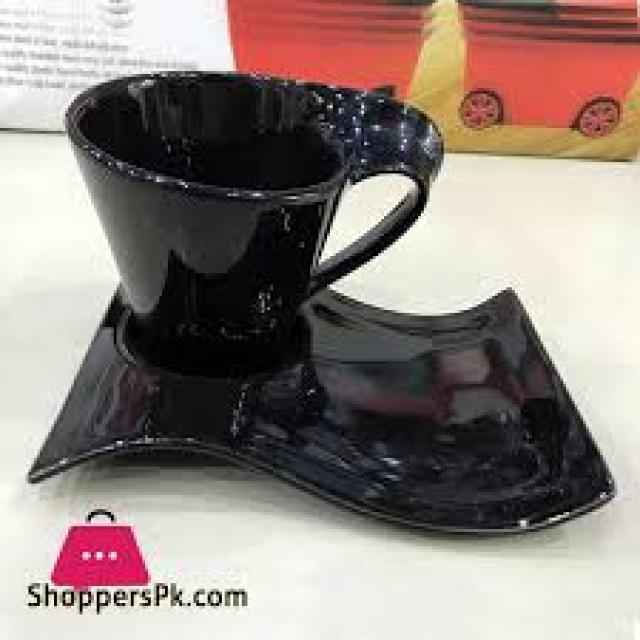taza: (57, 53, 447, 382)
